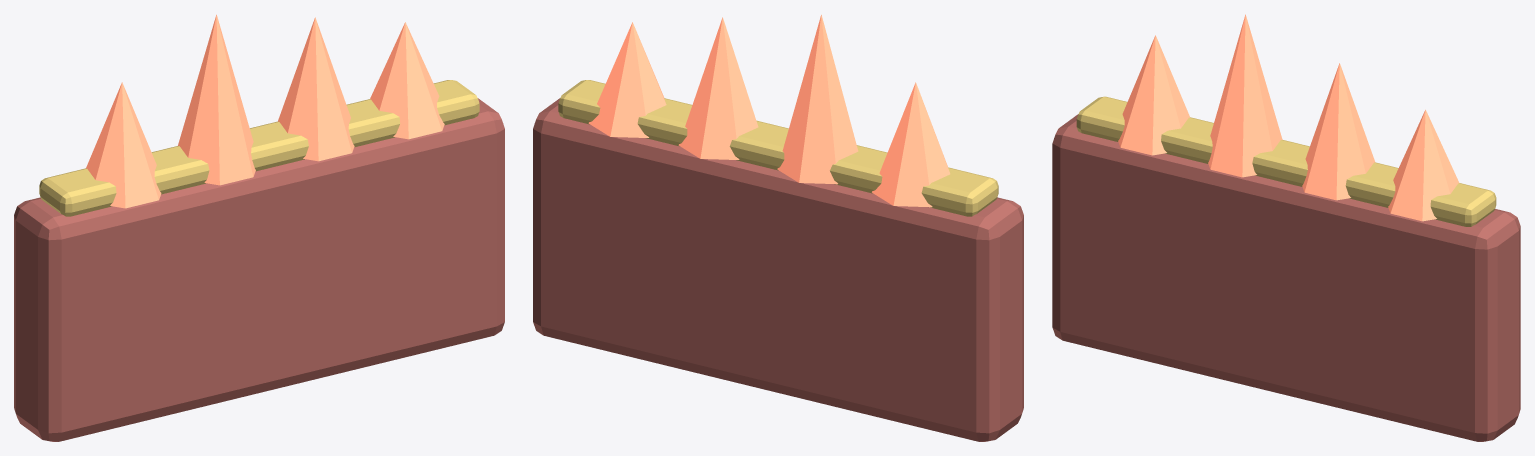
The model's file is wall-fire.glb.
The picture shows the model from 3 angles, left to right: view 1: azimuth 30°, elevation 25°; view 2: azimuth 150°, elevation 25°; view 3: azimuth 330°, elevation 25°; orthographic projection. The views are drawn at different scales.
Visible parts, largest first — view 1: mesh_wall_fire_body, mesh_wall_fire_ember, mesh_wall_fire_accent; view 2: mesh_wall_fire_body, mesh_wall_fire_ember, mesh_wall_fire_accent; view 3: mesh_wall_fire_body, mesh_wall_fire_ember, mesh_wall_fire_accent.
Boxes of the visible parts, box(x1,y1,x2,y2) form: mesh_wall_fire_body: box(14, 98, 504, 441); mesh_wall_fire_ember: box(86, 14, 444, 208); mesh_wall_fire_accent: box(39, 80, 479, 216); mesh_wall_fire_body: box(533, 98, 1023, 441); mesh_wall_fire_ember: box(588, 14, 950, 207); mesh_wall_fire_accent: box(558, 80, 998, 216); mesh_wall_fire_body: box(1052, 114, 1520, 441); mesh_wall_fire_ember: box(1118, 14, 1459, 221); mesh_wall_fire_accent: box(1076, 96, 1496, 226).
Size of the model in its own units: 1.08 by 0.84 by 0.1711.
